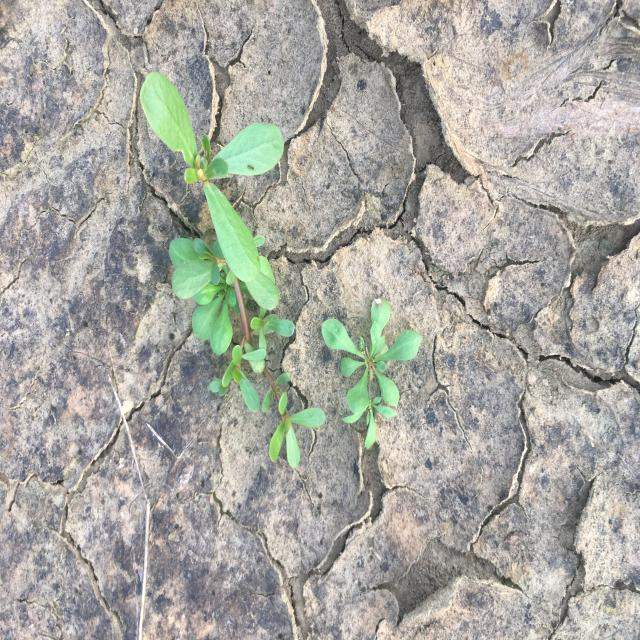Carpetweed: (321, 295, 424, 450)
Purslane: (138, 69, 327, 471)
